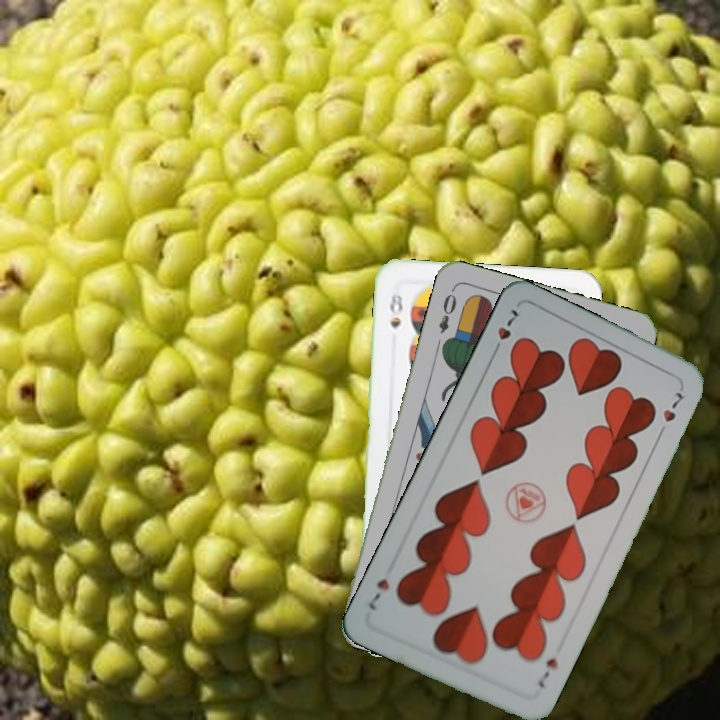EO: (434, 285, 459, 336)
H7: (487, 304, 524, 359), (534, 654, 561, 691)
S8: (385, 289, 406, 331)
